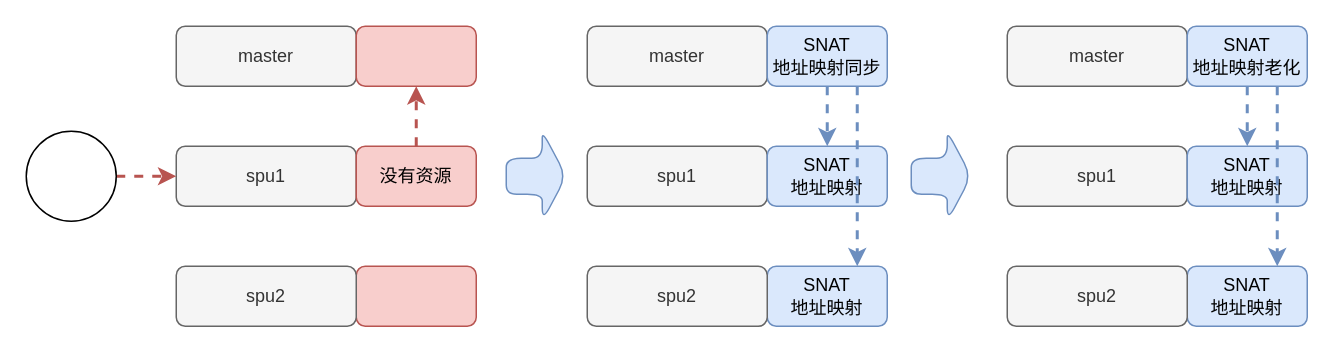
Image size: 1334x353. Some labels were removed from this diagram. The shapes that lost their labels are listed below. From the top down, each one's centre as x and y in pixels, then its label:
At point 415,55: "SNAT 地址映射分配".
At point 70,175: "skb".
